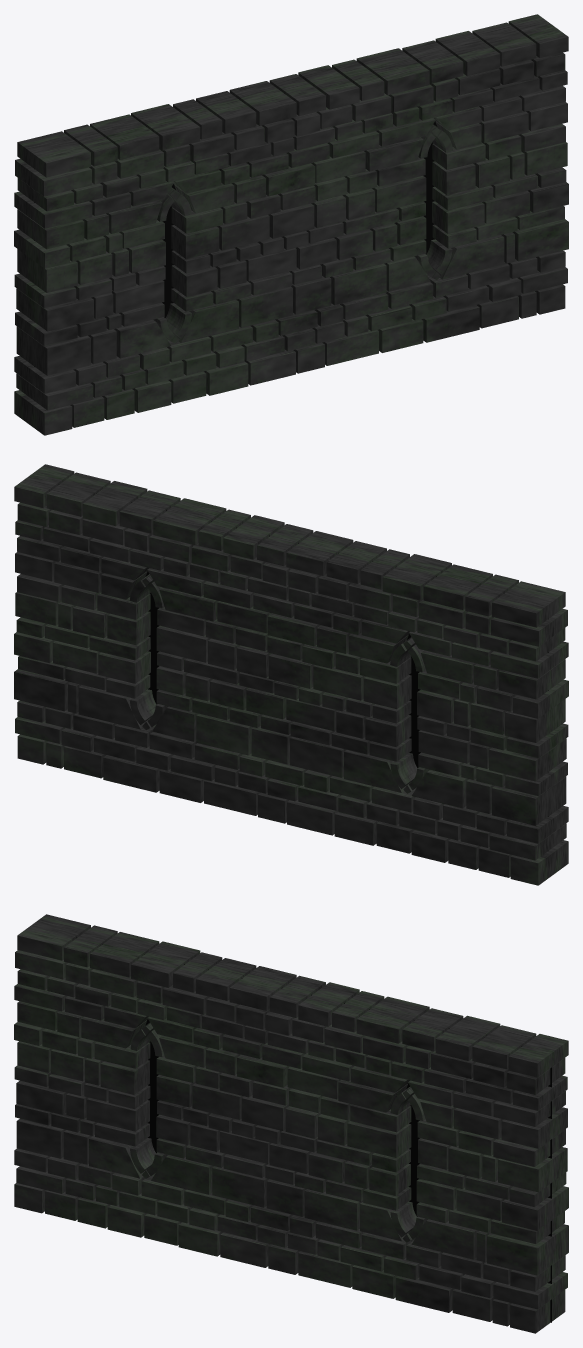
Rendered from Stone Wall Slits.fbx.
3 views of the same model, one above another, from view 1: azimuth 30°, elevation 25°; view 2: azimuth 150°, elevation 25°; view 3: azimuth 330°, elevation 25° (orthographic).
Parts seen in each view (by area): view 1: Wall.001; view 2: Wall.001; view 3: Wall.001.
Part boxes in pixels (x1=…): Wall.001: x1=14, y1=14, x2=568, y2=435; Wall.001: x1=14, y1=464, x2=568, y2=885; Wall.001: x1=14, y1=914, x2=568, y2=1333.
Bounding box in the file's own units: 203 × 101 × 21.36.
